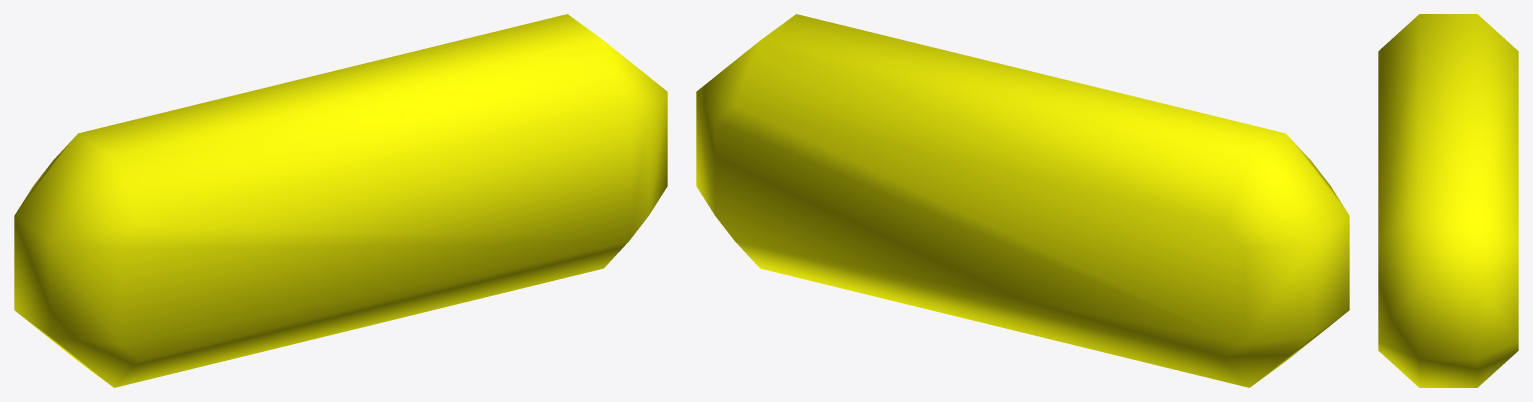
File: Link2.bbox.gltf
3 views of the same model, side by side, from view 1: azimuth 30°, elevation 25°; view 2: azimuth 150°, elevation 25°; view 3: azimuth 270°, elevation 25° (orthographic). The views are drawn at different scales.
Visible parts, largest first — view 1: Link2.bbox; view 2: Link2.bbox; view 3: Link2.bbox.
Boxes of the visible parts, <box> form: Link2.bbox: <box>14,14,667,387</box>; Link2.bbox: <box>696,14,1349,387</box>; Link2.bbox: <box>1378,14,1518,387</box>.
Size of the model in its own units: 0.3667 by 0.1295 by 0.09.
